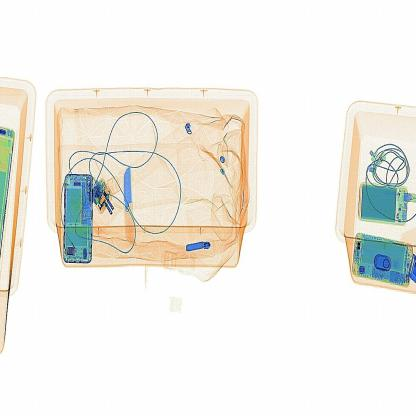wrench: (121, 170, 138, 253)
